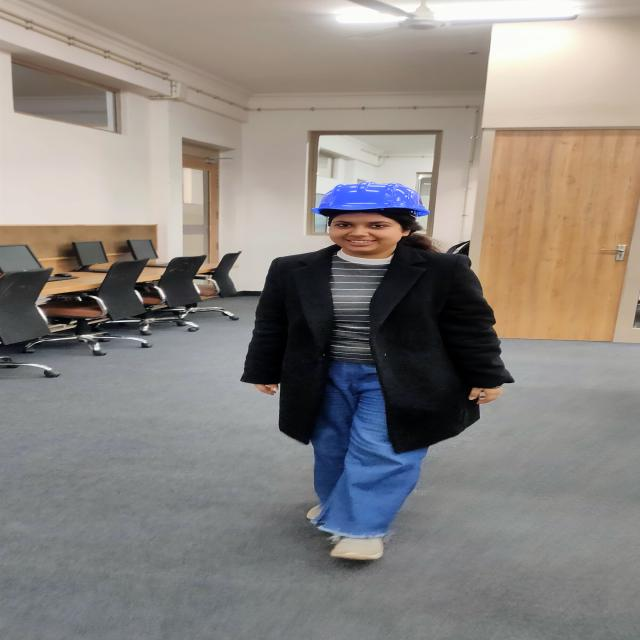no jacket: (240, 179, 514, 559)
